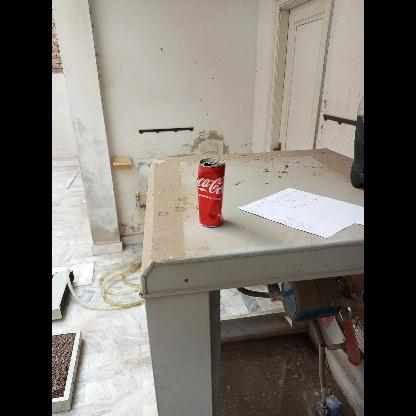Dent_Can: (197, 171, 224, 223)
Lid_Open: (204, 158, 220, 168)
Tin_Can: (196, 156, 228, 230)
